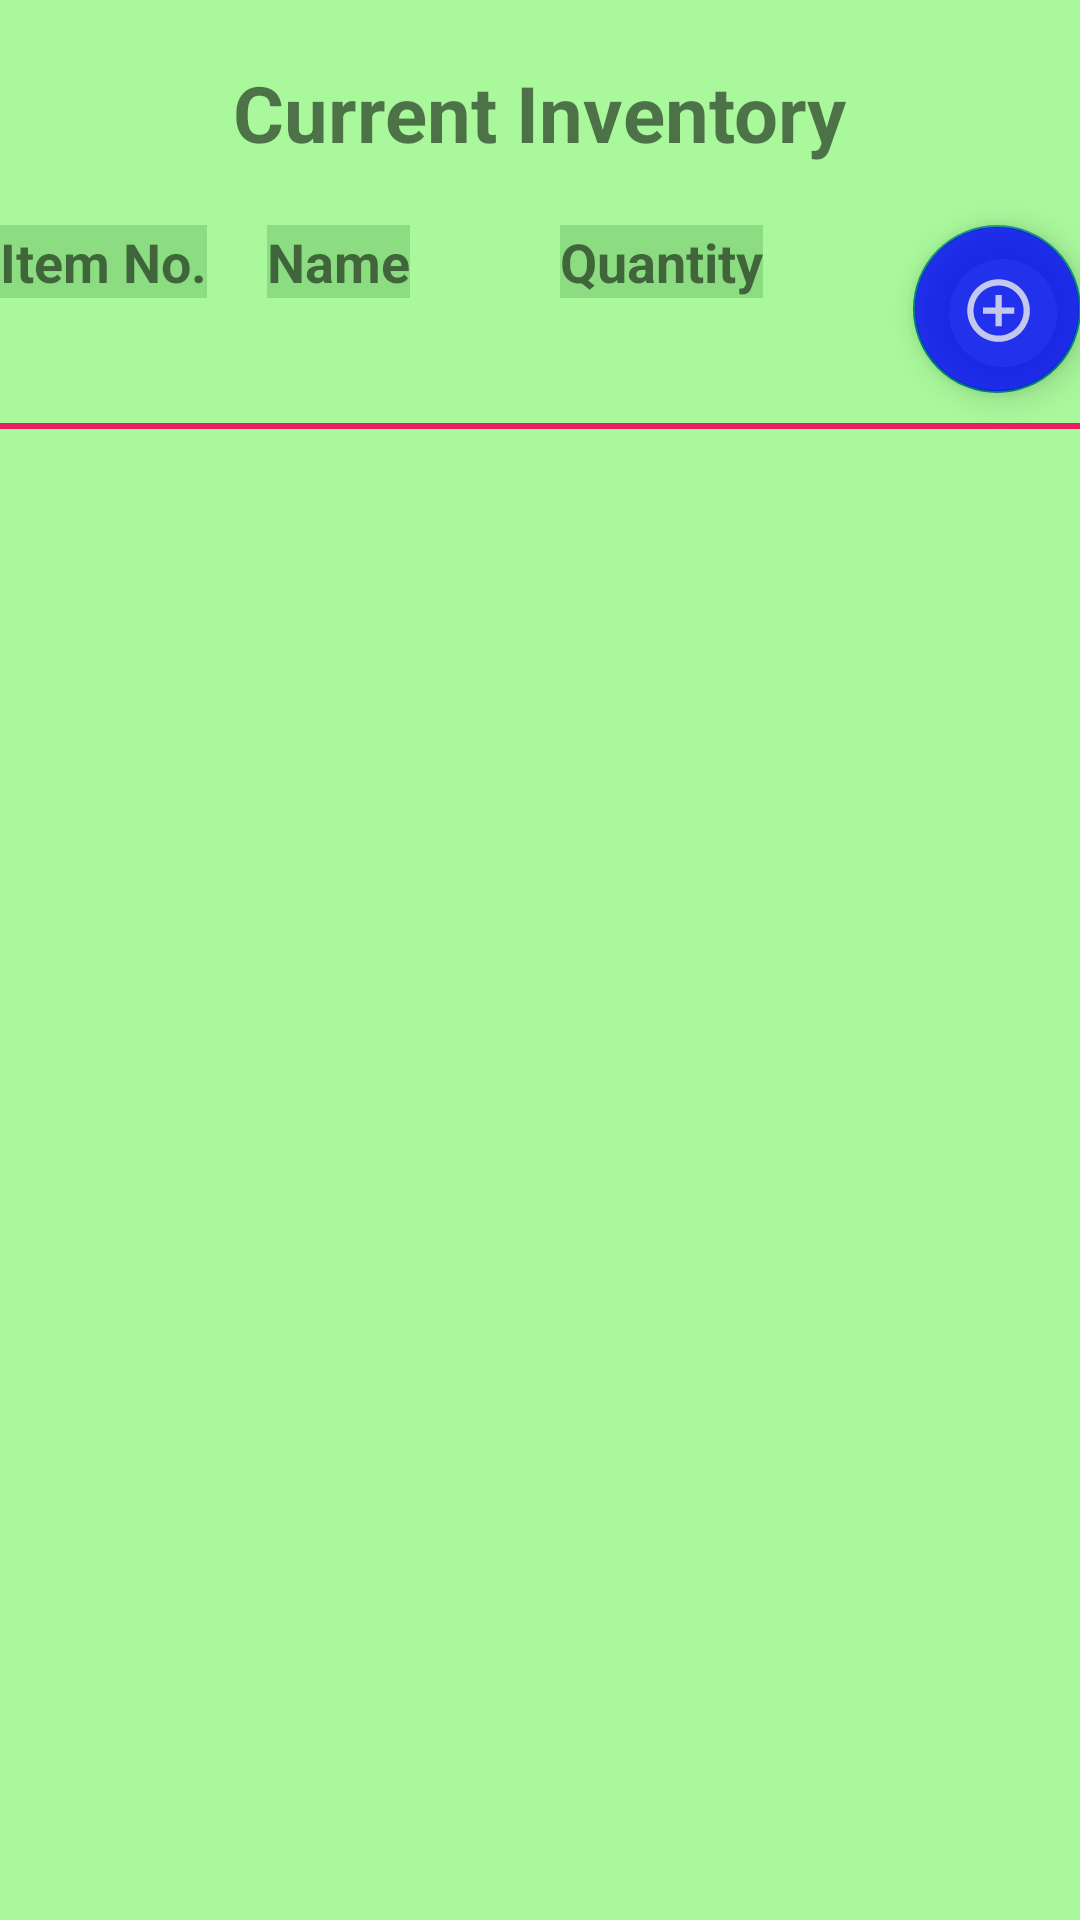

Named icons in this screenshot (1080 x 1920) and their bounding boxes, (x1, y1, x2, y2):
add circle fab: (913, 225, 1080, 393)
